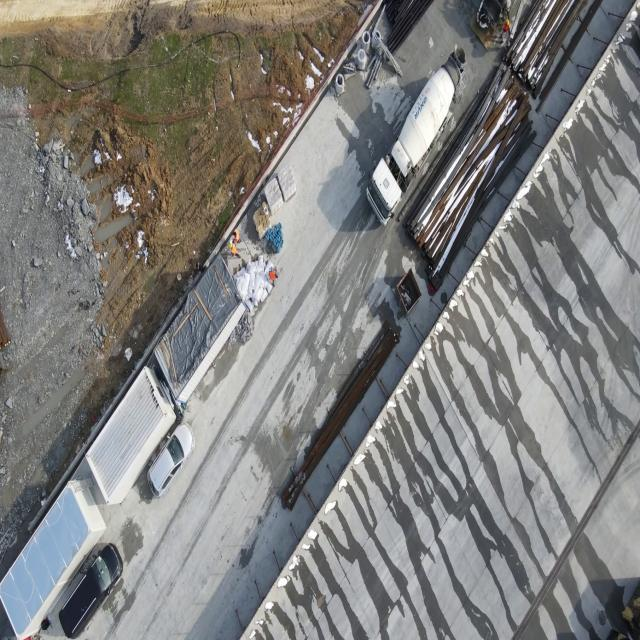p3rson: (499, 7, 510, 44), (229, 241, 242, 258), (268, 265, 278, 287), (195, 260, 206, 273), (232, 229, 242, 243)
